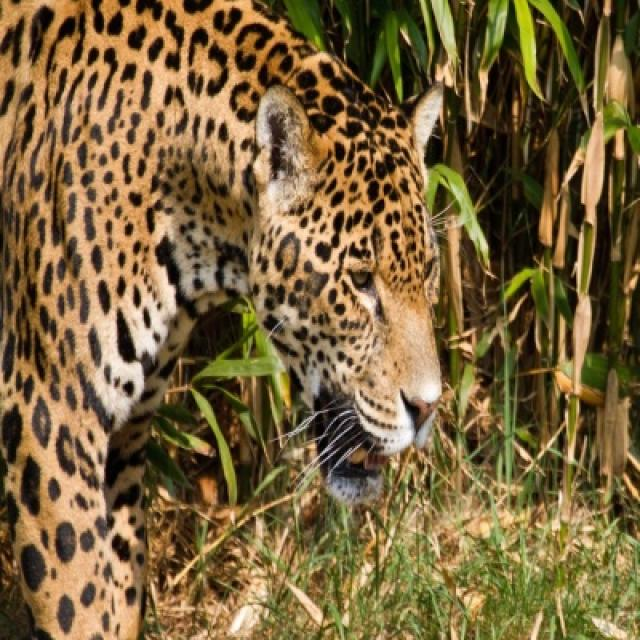Jaguar: (0, 0, 450, 638)
